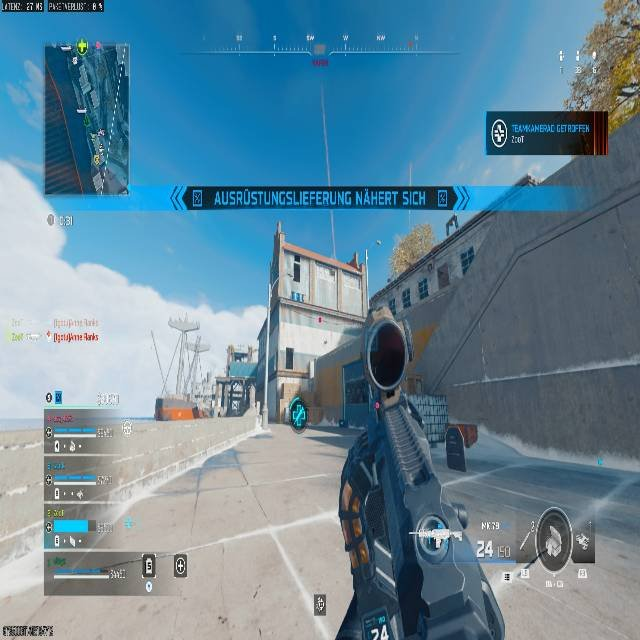player: (291, 399, 306, 429)
